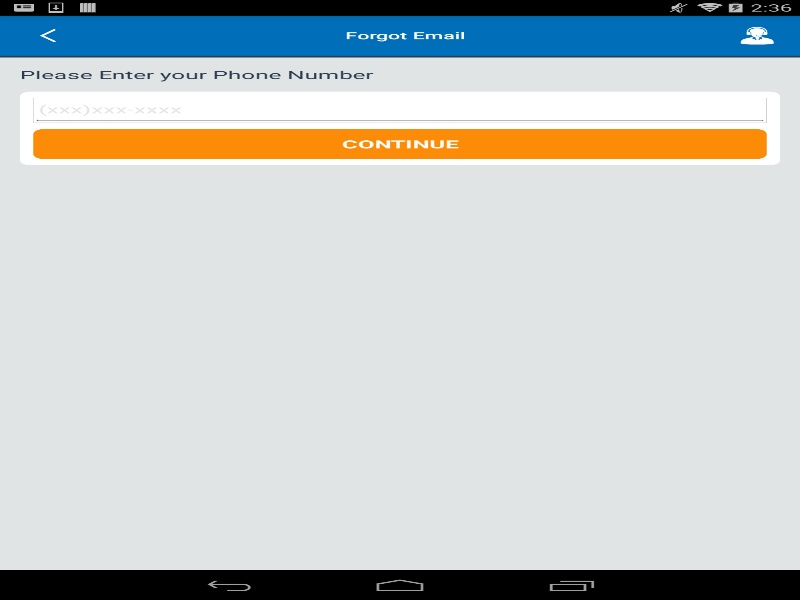Button: (33, 129, 766, 159), (10, 18, 85, 53)
Input: (33, 97, 766, 122)
